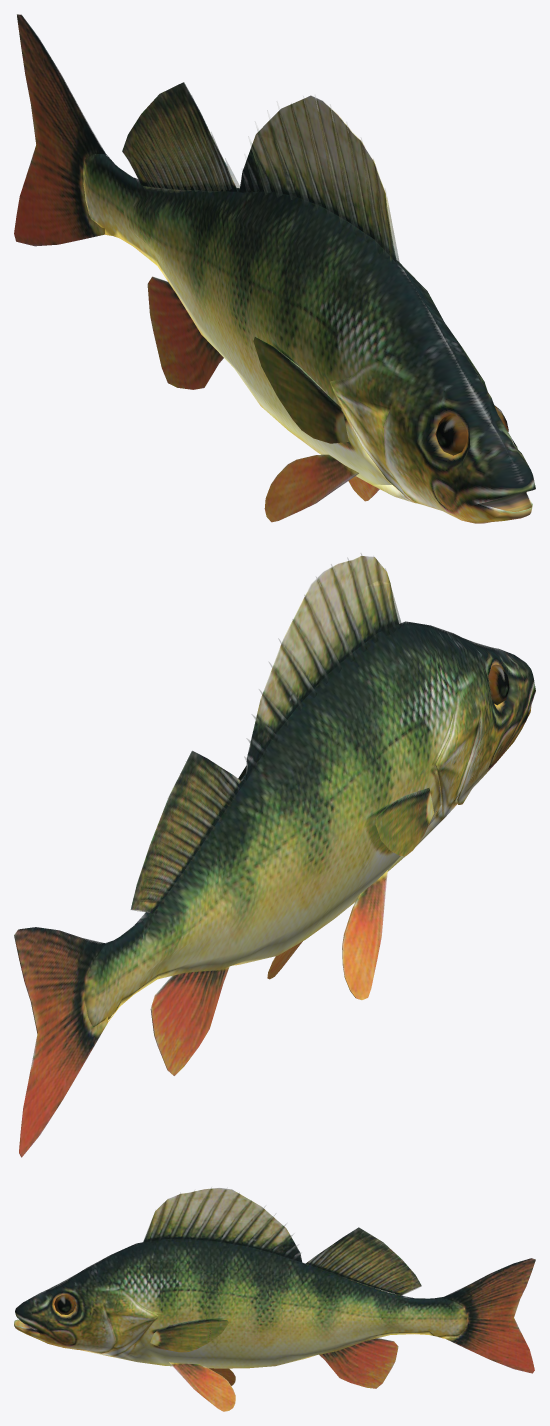
The model's file is ahven_-_abborre_-_perch.glb.
3 renders of one model, top to bottom at view 1: azimuth 30°, elevation 25°; view 2: azimuth 150°, elevation 25°; view 3: azimuth 270°, elevation 25°, orthographic. The views are drawn at different scales.
Visible parts, largest first — view 1: Plane, Plane.001, Vert, Plane.003, Plane.002, Plane.004; view 2: Plane, Plane.001, Vert, Plane.002, Plane.003; view 3: Plane, Plane.001, Vert, Plane.002, Plane.003, Plane.004.
Part boxes in pixels (x1,y1,x2,y2): Plane: (83, 154, 535, 523); Plane.001: (14, 14, 396, 389); Vert: (127, 94, 399, 263); Plane.003: (253, 337, 348, 443); Plane.002: (264, 454, 379, 522); Plane.004: (435, 405, 508, 455); Plane: (84, 621, 535, 1026); Plane.001: (14, 556, 398, 1157); Vert: (131, 552, 401, 913); Plane.002: (267, 870, 387, 999); Plane.003: (375, 787, 434, 856); Plane: (14, 1239, 466, 1368); Plane.001: (143, 1187, 535, 1388); Vert: (143, 1187, 419, 1295); Plane.002: (169, 1362, 235, 1411); Plane.003: (150, 1319, 228, 1352); Plane.004: (54, 1295, 75, 1314).
Bounding box in the file's own units: 1.27 × 4.2 × 9.28.
Materials: 6 (6 with a texture image).
